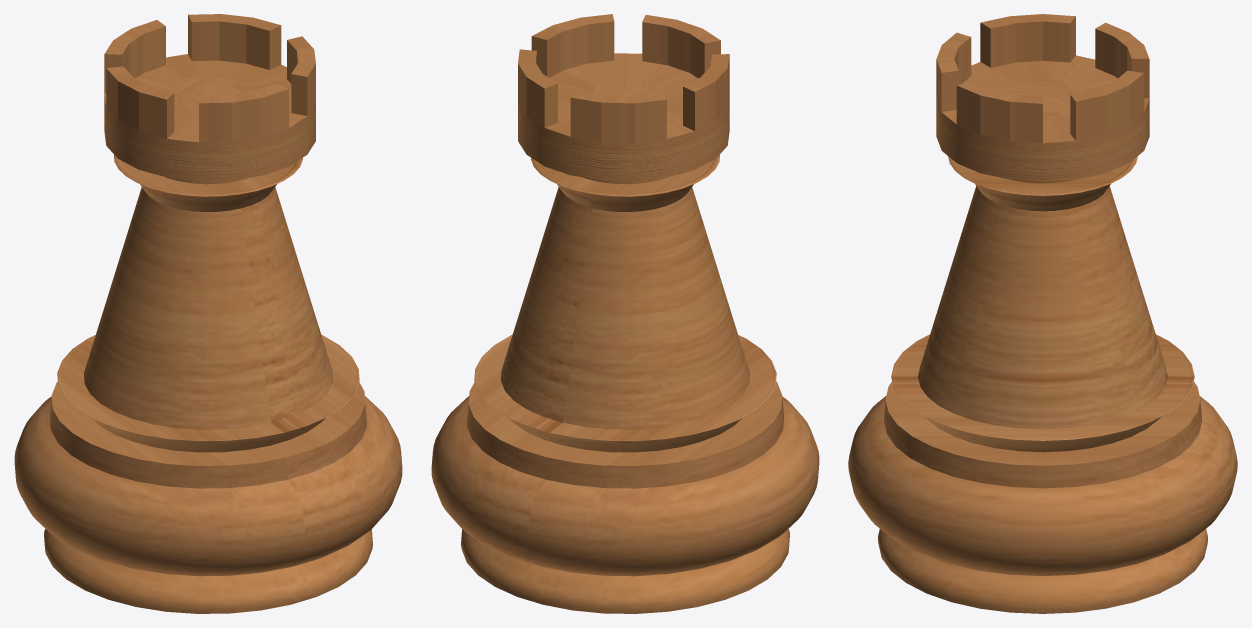
The model's file is WhiteRook.FBX.
3 views of the same model, side by side, from view 1: azimuth 30°, elevation 25°; view 2: azimuth 150°, elevation 25°; view 3: azimuth 270°, elevation 25° (orthographic).
Parts seen in each view (by area): view 1: RookW2; view 2: RookW2; view 3: RookW2.
Boxes of the visible parts, x1=… form: RookW2: x1=14, y1=14, x2=402, y2=613; RookW2: x1=431, y1=14, x2=819, y2=613; RookW2: x1=848, y1=14, x2=1237, y2=613.
Size of the model in its own units: 0.1837 by 0.1837 by 0.2531.
Materials: 1 (1 with a texture image).
